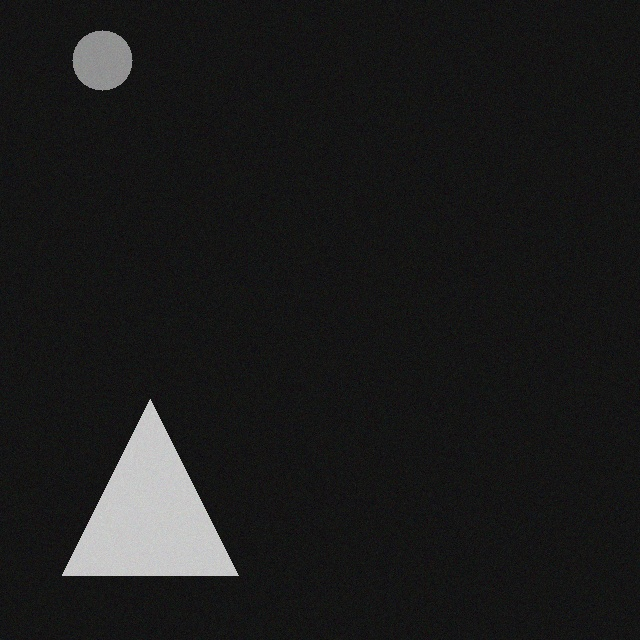circle: (81, 19, 141, 79)
triangle: (71, 388, 247, 564)
